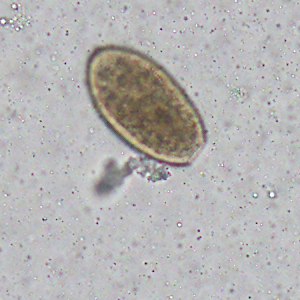Fasciola_hepatica_egg: (86, 44, 208, 167)
